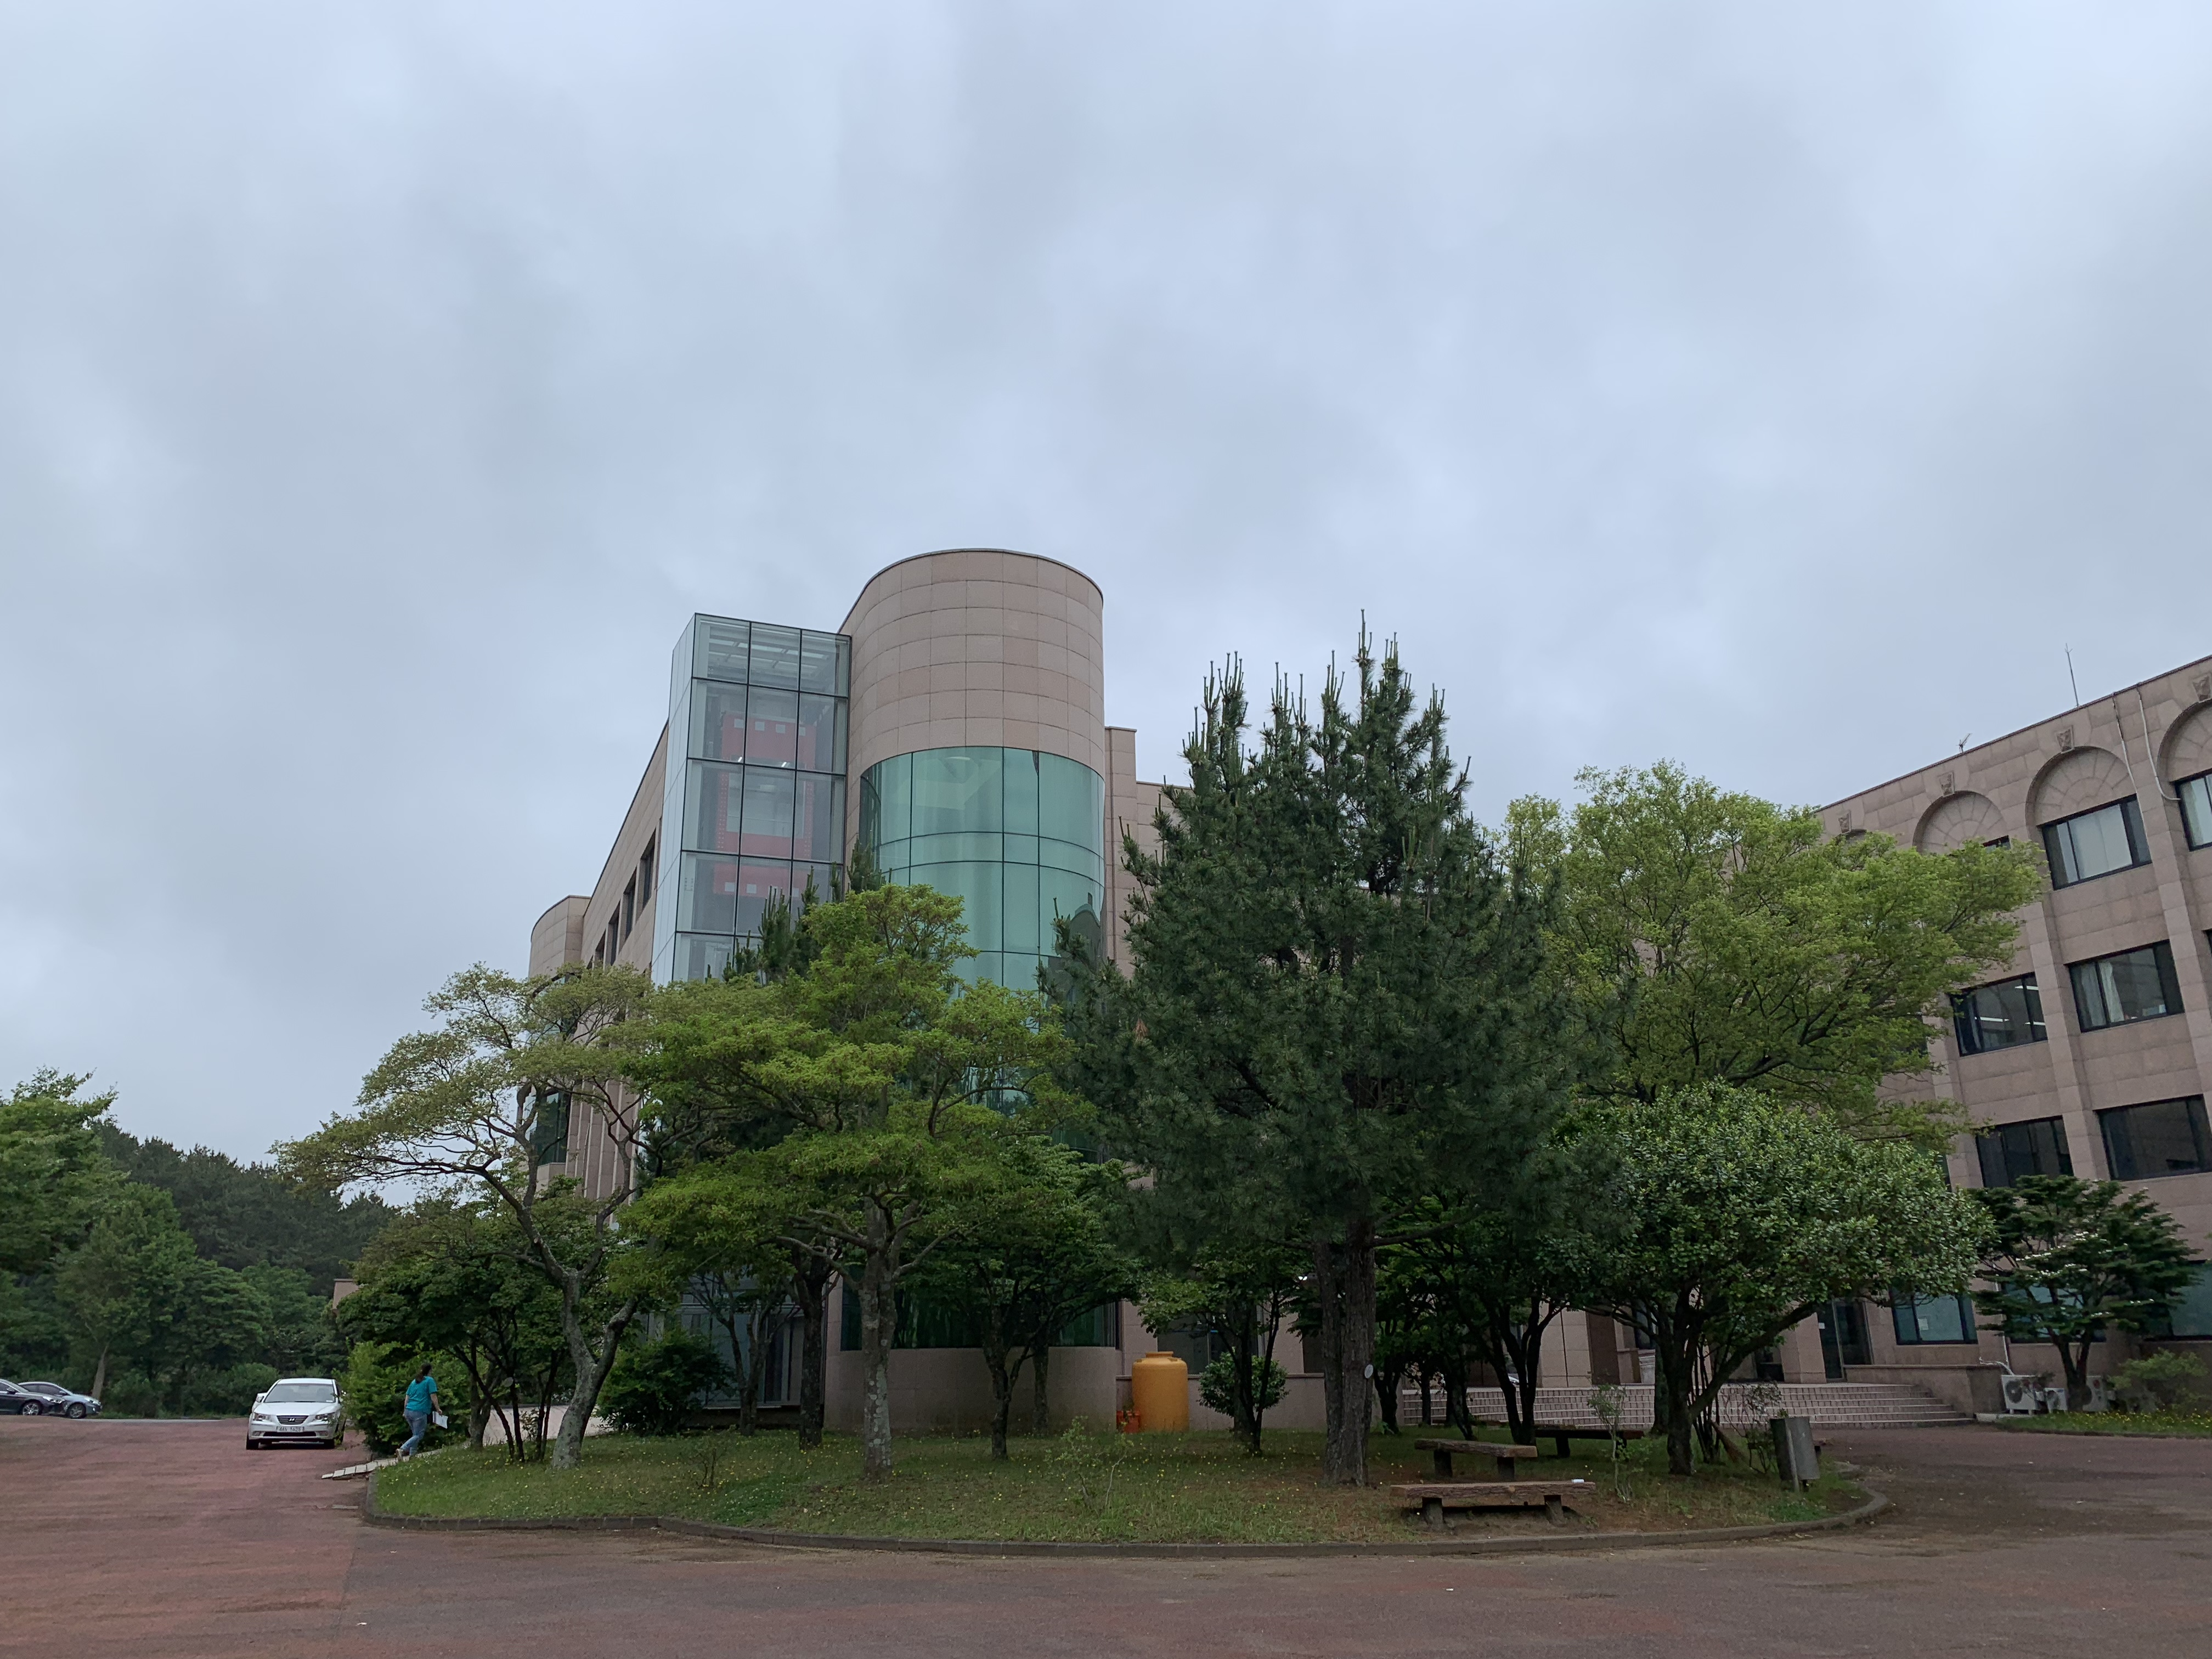Joint Experimental Labs: (456, 523, 1162, 1042)
Natural Science2: (1836, 640, 2212, 1288)
